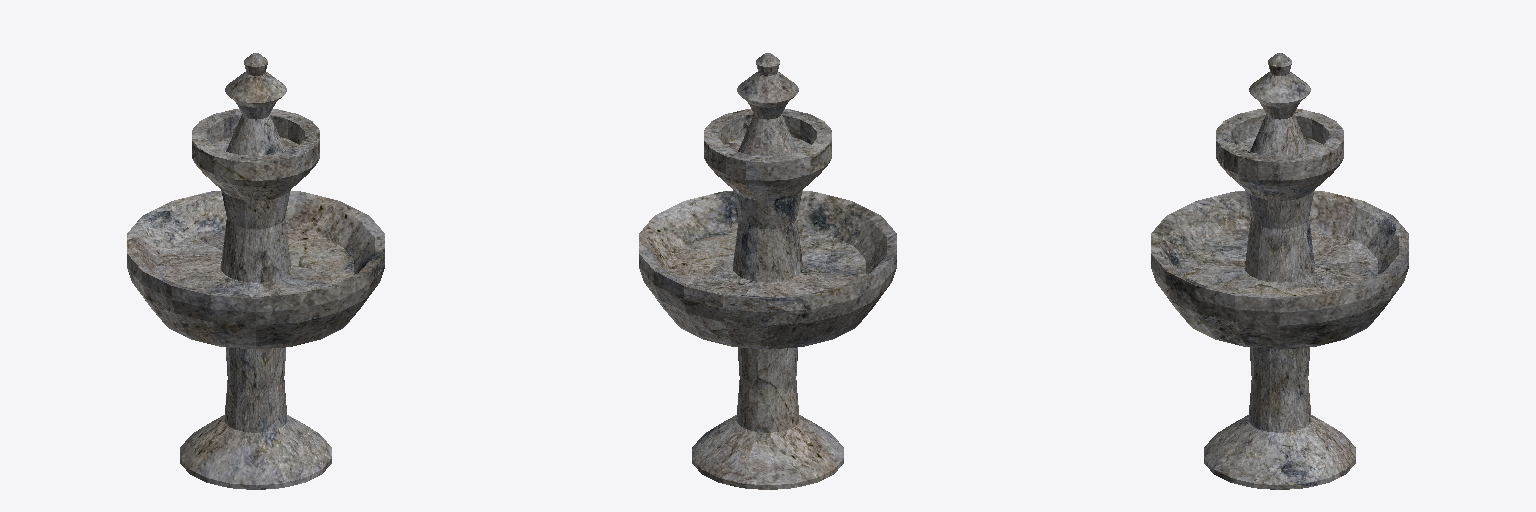
3 renders of one model, left to right at view 1: azimuth 30°, elevation 25°; view 2: azimuth 150°, elevation 25°; view 3: azimuth 270°, elevation 25°, orthographic.
Parts seen in each view (by area): view 1: Cilindro001; view 2: Cilindro001; view 3: Cilindro001.
Boxes of the visible parts, box(x1,y1,x2,y2) form: Cilindro001: box(127, 53, 384, 489); Cilindro001: box(639, 53, 896, 489); Cilindro001: box(1151, 53, 1408, 489).
Size of the model in its own units: 39.91 by 67.74 by 39.3.
1 materials, 1 textured.